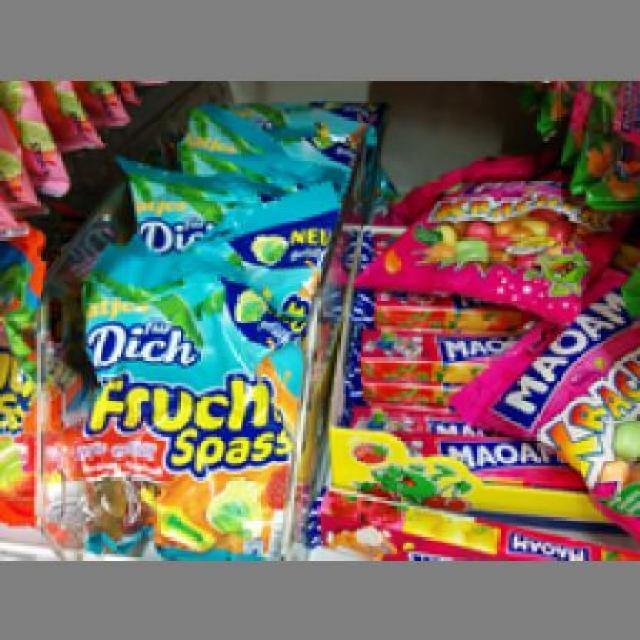Candy: (62, 237, 308, 554), (350, 145, 606, 318)
